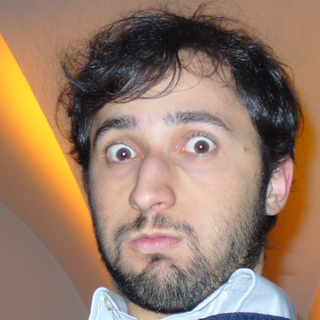eye: (179, 133, 225, 160), (102, 141, 144, 166)
